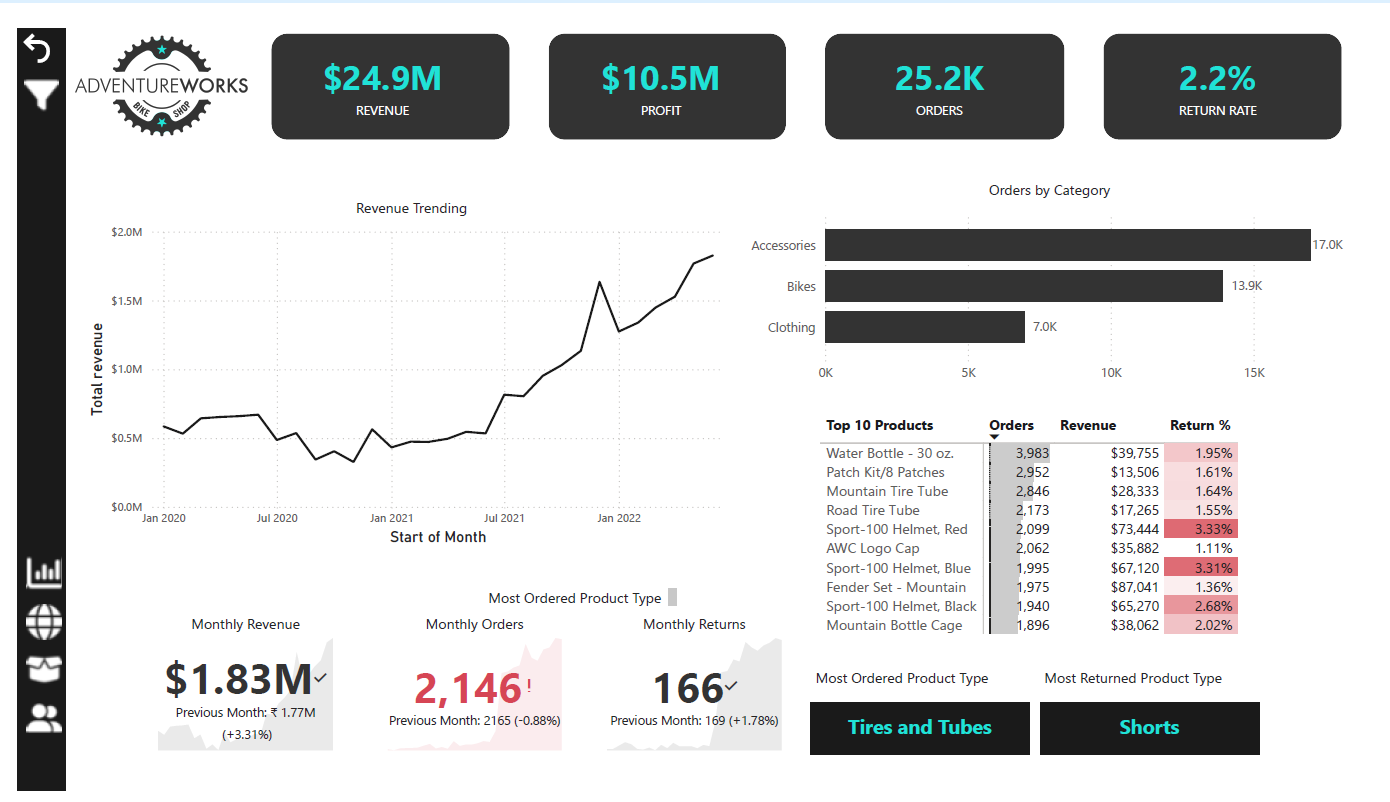

What the dashboard file says about the page in this screenshot:
{"tool":"powerbi","page":{"name":"Exec Dashboard","canvas":[1280,720],"ordinal":0},"visuals":[{"type":"image","title":"AW logo","box":[22.9,4.3,227.1,100],"z":0},{"type":"shape","box":[239.3,5.3,225.3,100],"z":0,"group":"g2"},{"type":"card","fields":{"Values":["Measure Table.Total revenue"]},"box":[231.8,11.3,226.1,86.2],"z":0,"group":"g3"},{"type":"actionButton","box":[4.6,539.4,81,41.4],"z":0,"group":"g4"},{"type":"shape","title":"Left nav background","box":[0,0,44.6,720],"z":1000},{"type":"shape","box":[501.5,5.6,224.2,100],"z":1000,"group":"g2"},{"type":"card","fields":{"Values":["Measure Table.Return rate"]},"box":[1020.6,11.3,226.1,86.2],"z":1000,"group":"g3"},{"type":"actionButton","box":[4.6,584.9,81,41.4],"z":1000,"group":"g4"},{"type":"group","id":"g1","title":"KPI","box":[231.8,5.3,1018.3,100.3],"z":2000},{"type":"group","id":"g2","title":"KPI background","box":[239.3,5.3,1010.8,100.3],"z":2000,"group":"g1"},{"type":"shape","box":[762.6,5.6,225.3,100],"z":2000,"group":"g2"},{"type":"card","fields":{"Values":["Measure Table.Total profit"]},"box":[494.7,11.3,226.1,86.2],"z":2000,"group":"g3"},{"type":"actionButton","box":[4.6,493.8,81,41.4],"z":2000,"group":"g4"},{"type":"shape","box":[1024.8,5.6,225.3,100],"z":3000,"group":"g2"},{"type":"group","id":"g3","title":"KPI values","box":[231.8,11.3,1014.9,86.2],"z":3000,"group":"g1"},{"type":"card","fields":{"Values":["Measure Table.Total orders"]},"box":[757.7,11.3,226.1,86.2],"z":3000,"group":"g3"},{"type":"lineChart","title":" Revenue Trending","fields":{"Category":["Calendar Lookup.Year","Calendar Lookup.Start of Quarter","Calendar Lookup.Start of Month"],"Y":["Measure Table.Total revenue"]},"box":[62.1,159.8,620.7,333.3],"z":3000},{"type":"actionButton","box":[4.6,630.5,81,41.4],"z":3000,"group":"g4"},{"type":"kpi","title":"Monthly Revenue","fields":{"Goal":["Measure Table.Previous month rev"],"Indicator":["Measure Table.Total revenue"],"TrendLine":["Calendar Lookup.Start of Month"]},"box":[128.3,553.3,175,133.3],"z":4000},{"type":"kpi","title":"Monthly Orders","fields":{"Goal":["Measure Table.Previous month orders"],"Indicator":["Measure Table.Total orders"],"TrendLine":["Calendar Lookup.Start of Month"]},"box":[344.6,553,174.7,133.7],"z":5000},{"type":"kpi","title":"Monthly Returns","fields":{"Goal":["Measure Table.Previous month returns"],"Indicator":["Measure Table.Total returns"],"TrendLine":["Calendar Lookup.Start of Month"]},"box":[551.7,553.3,175,133.3],"z":6000},{"type":"clusteredBarChart","title":"Orders by Category","fields":{"Category":["Product Categories Lookup.CategoryName"],"Y":["Measure Table.Total orders"]},"box":[682.9,142.9,584.3,200],"z":7000},{"type":"pivotTable","fields":{"Rows":["Product Lookup.ProductName"],"Values":["Measure Table.Total orders","Measure Table.Total revenue","Measure Table.Return rate"]},"box":[754.3,360,418.6,224.3],"z":8000},{"type":"card","fields":{"Values":["Min(Product Subcategories Lookup.SubcategoryName)"]},"box":[748.6,637.1,207.1,48.6],"z":9000},{"type":"textbox","box":[440.4,524.5,187.2,25.5],"z":10000},{"type":"textbox","box":[748.6,598.6,217.1,42.9],"z":11000},{"type":"card","fields":{"Values":["Min(Product Subcategories Lookup.SubcategoryName)"]},"box":[965.7,637.1,207.1,48.6],"z":12000},{"type":"textbox","box":[965.2,599,217.1,42.9],"z":13000},{"type":"actionButton","box":[0,0,44.6,37.3],"z":14000},{"type":"group","id":"g4","title":"navigation buttons","box":[4.6,493.8,81.5,178.5],"z":15000},{"type":"actionButton","box":[3.4,36.8,39.1,51.7],"z":16000}]}

Visuals, with their boxes on the page's 1280x720 design canvas (x1, y1, x2, y2). These are canvas units, not pixel positions in the 1390x802 screenshot, which may show the page scaled, cropped or inside an application window:
"AW logo" image: bbox=(23, 4, 250, 104)
shape: bbox=(239, 5, 465, 105)
card - Measure Table.Total revenue: bbox=(232, 11, 458, 98)
actionButton: bbox=(5, 539, 86, 581)
"Left nav background" shape: bbox=(0, 0, 45, 720)
shape: bbox=(502, 6, 726, 106)
card - Measure Table.Return rate: bbox=(1021, 11, 1247, 98)
actionButton: bbox=(5, 585, 86, 626)
"KPI" group: bbox=(232, 5, 1250, 106)
"KPI background" group: bbox=(239, 5, 1250, 106)
shape: bbox=(763, 6, 988, 106)
card - Measure Table.Total profit: bbox=(495, 11, 721, 98)
actionButton: bbox=(5, 494, 86, 535)
shape: bbox=(1025, 6, 1250, 106)
"KPI values" group: bbox=(232, 11, 1247, 98)
card - Measure Table.Total orders: bbox=(758, 11, 984, 98)
" Revenue Trending" lineChart: bbox=(62, 160, 683, 493)
actionButton: bbox=(5, 630, 86, 672)
"Monthly Revenue" kpi: bbox=(128, 553, 303, 687)
"Monthly Orders" kpi: bbox=(345, 553, 519, 687)
"Monthly Returns" kpi: bbox=(552, 553, 727, 687)
"Orders by Category" clusteredBarChart: bbox=(683, 143, 1267, 343)
pivotTable - Product Lookup.ProductName x Measure Table.Total orders: bbox=(754, 360, 1173, 584)
card - Min(Product Subcategories Lookup.SubcategoryName): bbox=(749, 637, 956, 686)
textbox: bbox=(440, 524, 628, 550)
textbox: bbox=(749, 599, 966, 642)
card - Min(Product Subcategories Lookup.SubcategoryName): bbox=(966, 637, 1173, 686)
textbox: bbox=(965, 599, 1182, 642)
actionButton: bbox=(0, 0, 45, 37)
"navigation buttons" group: bbox=(5, 494, 86, 672)
actionButton: bbox=(3, 37, 42, 88)
